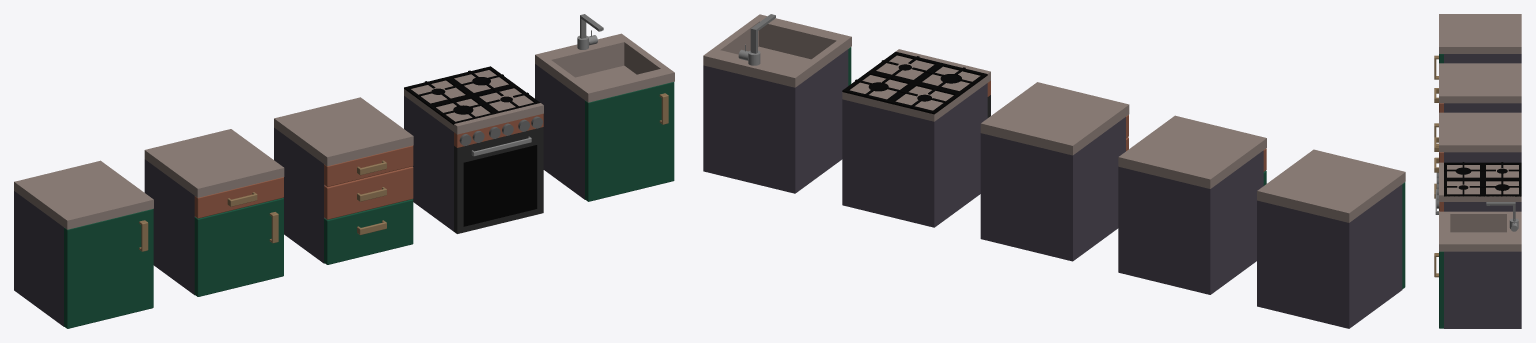
File: KitchenPart.fbx
3 renders of one model, left to right at view 1: azimuth 30°, elevation 25°; view 2: azimuth 150°, elevation 25°; view 3: azimuth 270°, elevation 25°, orthographic. The views are drawn at different scales.
Visible parts, largest first — view 1: KP1, Sink, KP2, Oven, KP3; view 2: KP1, Sink, KP2, KP3, Oven; view 3: Sink, KP3, KP2, KP1, Oven.
Part boxes in pixels (x1,y1,x2,y2): KP1: (14,160,153,328); Sink: (535,14,674,201); KP2: (144,129,284,296); Oven: (404,66,543,233); KP3: (274,97,413,264); KP1: (1257,149,1405,328); Sink: (703,14,851,193); KP2: (1118,115,1266,294); KP3: (980,82,1129,261); Oven: (842,49,990,227); Sink: (1434,202,1521,328); KP3: (1434,112,1521,210); KP2: (1434,63,1521,146); KP1: (1434,14,1521,79); Oven: (1435,162,1521,214).
Bounding box in the file's own units: 1403 × 312 × 225.
